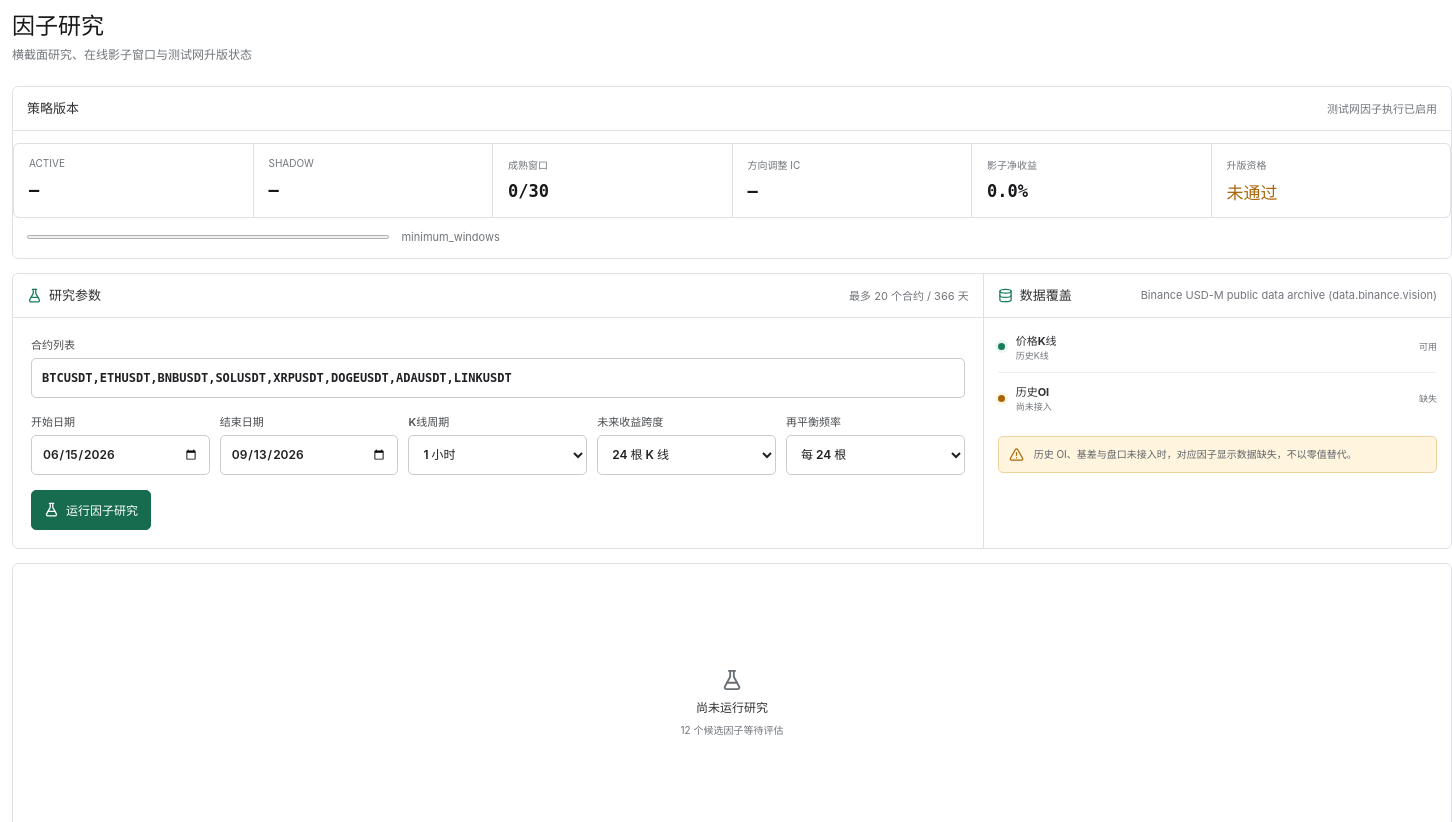
shows a request failure without replacing data coverage
Expected: the text "价格K线" is shown, [1016, 334, 1056, 348]
Click the button "运行因子研究".
click(91, 510)  # box [31, 490, 151, 530]
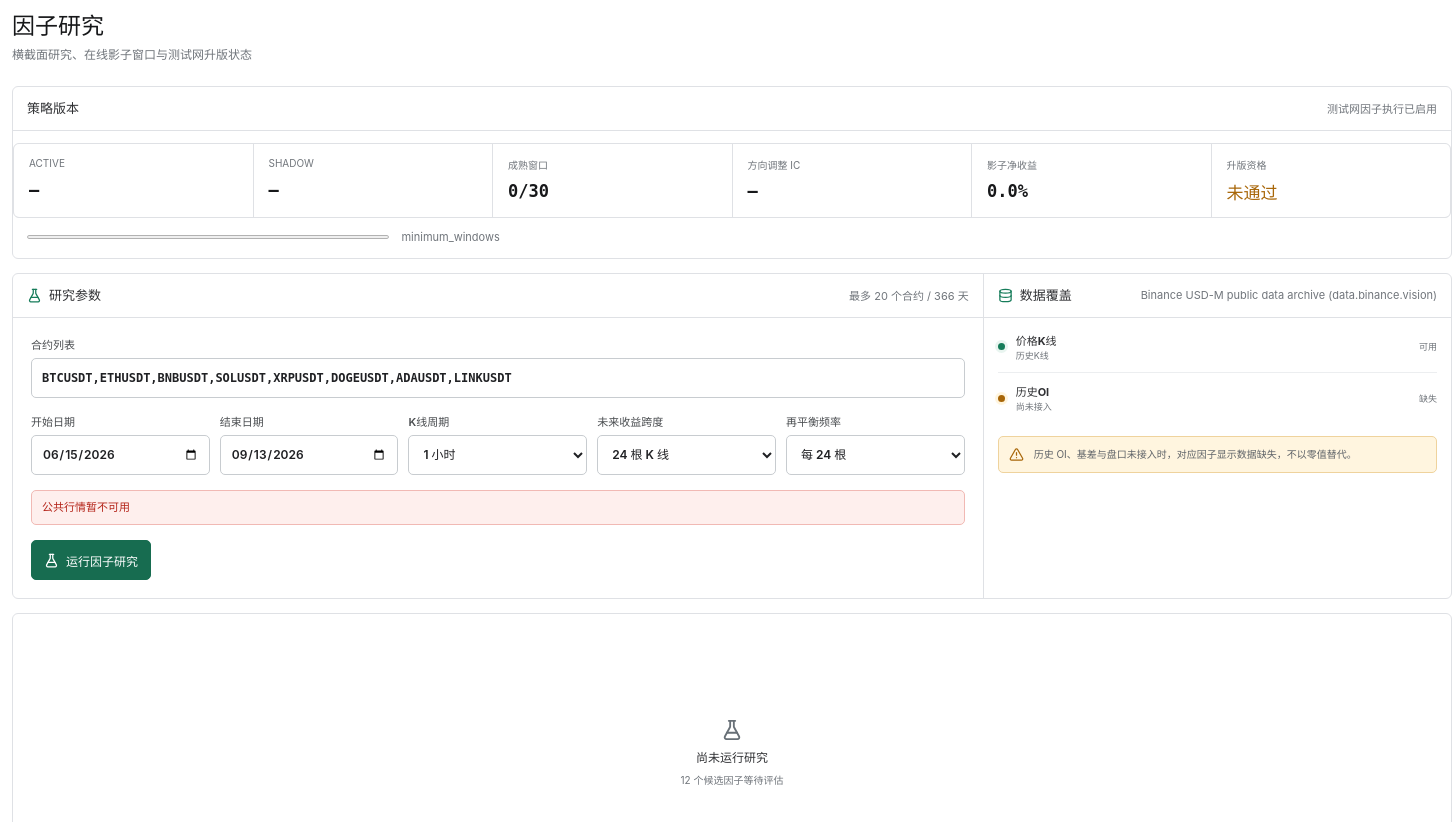
Expected: the text "历史OI" is shown, [1016, 385, 1049, 399]
Now the message reads "公共行情暂不可用", box [42, 500, 130, 514]
